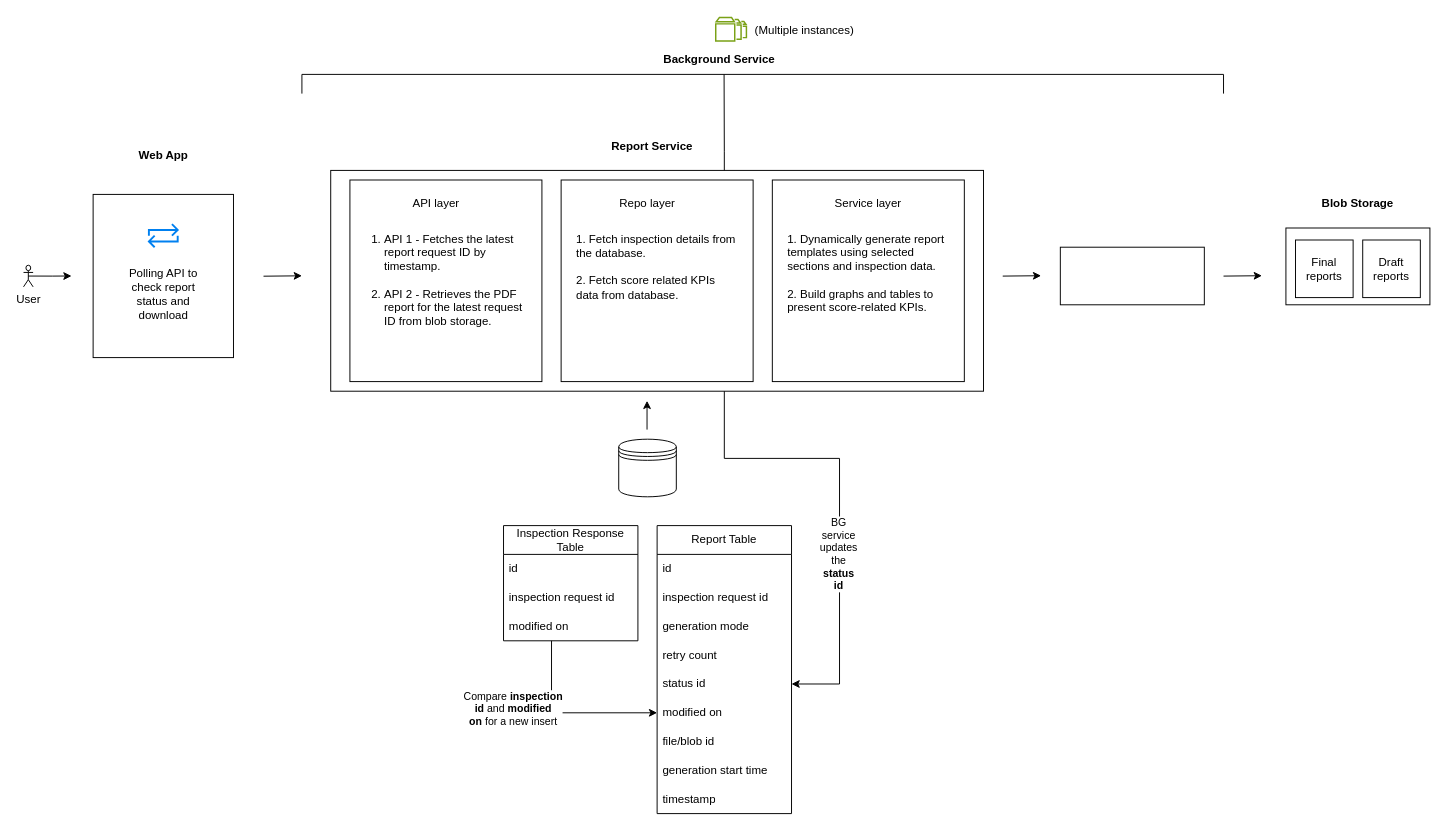
This 1452x830 diagram has some shape labels left out. The centre of each missing label's shape, as x and y in pixels:
A&I DB: point (647, 467)
SNR Document Generator: point (1131, 275)
